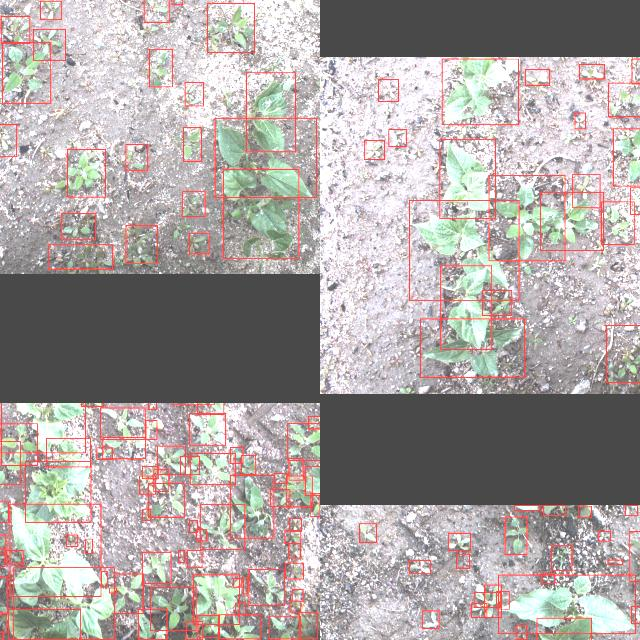crop: (409, 200, 519, 300), (10, 504, 100, 596), (498, 574, 636, 632), (216, 117, 316, 197), (14, 567, 114, 639), (223, 168, 299, 258), (420, 318, 524, 378), (442, 58, 518, 124), (440, 138, 496, 218), (441, 265, 492, 349), (1, 403, 85, 452), (25, 461, 91, 522), (247, 72, 296, 152), (8, 609, 80, 639), (46, 438, 90, 467), (536, 617, 591, 640), (305, 465, 320, 494), (542, 504, 566, 514), (514, 504, 540, 510)
weed: (489, 175, 565, 261), (540, 192, 604, 250), (3, 42, 51, 102), (230, 474, 274, 538), (208, 2, 255, 52), (193, 574, 239, 624), (605, 325, 640, 382), (200, 504, 244, 548), (150, 588, 196, 630), (67, 149, 105, 197), (49, 244, 113, 270), (0, 423, 38, 465), (613, 128, 640, 185), (100, 407, 146, 439), (190, 452, 236, 483), (602, 202, 634, 244), (248, 569, 284, 605), (148, 483, 184, 517), (287, 422, 320, 459), (126, 225, 158, 263), (115, 573, 144, 613), (190, 412, 226, 444), (608, 82, 640, 116), (33, 28, 65, 60), (218, 615, 260, 639), (142, 551, 172, 583), (572, 173, 600, 207), (102, 437, 146, 458), (61, 213, 95, 239), (0, 440, 20, 483), (138, 609, 166, 639), (157, 444, 185, 474), (150, 48, 172, 86), (505, 516, 527, 554), (1, 15, 30, 42), (286, 476, 312, 506), (482, 290, 512, 314), (270, 616, 300, 638), (183, 127, 201, 161), (484, 584, 502, 616), (126, 144, 148, 170), (182, 192, 205, 216), (629, 531, 640, 581), (0, 124, 17, 156), (143, 0, 168, 21), (552, 544, 572, 570), (198, 615, 220, 637), (299, 612, 317, 638), (184, 81, 203, 105), (189, 232, 209, 254), (378, 78, 398, 100), (524, 68, 550, 84), (40, 1, 61, 20), (448, 532, 470, 550), (474, 592, 501, 606), (365, 140, 385, 158), (270, 488, 290, 506), (180, 456, 200, 474), (359, 522, 376, 542), (580, 64, 604, 78), (389, 128, 407, 146), (240, 454, 256, 474), (289, 458, 303, 480), (154, 469, 168, 491), (185, 621, 202, 639), (285, 563, 303, 579), (140, 475, 156, 493), (422, 610, 438, 628), (630, 186, 640, 213), (196, 403, 223, 413), (0, 576, 7, 612), (188, 550, 202, 568), (310, 492, 320, 516), (410, 560, 430, 572), (496, 590, 509, 608), (631, 57, 640, 82), (7, 550, 23, 564), (471, 603, 487, 617), (97, 447, 113, 459), (288, 542, 300, 558), (285, 530, 301, 542), (230, 447, 242, 463), (142, 466, 158, 478), (146, 419, 156, 438), (456, 553, 469, 567), (307, 415, 320, 428), (0, 501, 8, 522), (575, 112, 585, 128), (631, 605, 640, 622), (66, 534, 78, 546), (289, 518, 301, 530), (274, 473, 288, 483), (578, 506, 592, 516), (516, 625, 526, 639), (235, 603, 245, 615), (290, 600, 300, 612), (292, 589, 302, 601), (542, 573, 554, 583), (599, 530, 611, 540), (625, 504, 637, 514), (0, 614, 7, 631), (196, 530, 206, 540), (86, 538, 92, 554), (101, 570, 107, 586), (189, 520, 197, 532), (142, 508, 150, 520), (0, 548, 5, 566), (608, 558, 622, 564), (178, 550, 184, 562), (243, 577, 247, 593), (233, 578, 241, 586), (148, 403, 156, 408), (110, 588, 116, 592), (0, 632, 3, 639)
